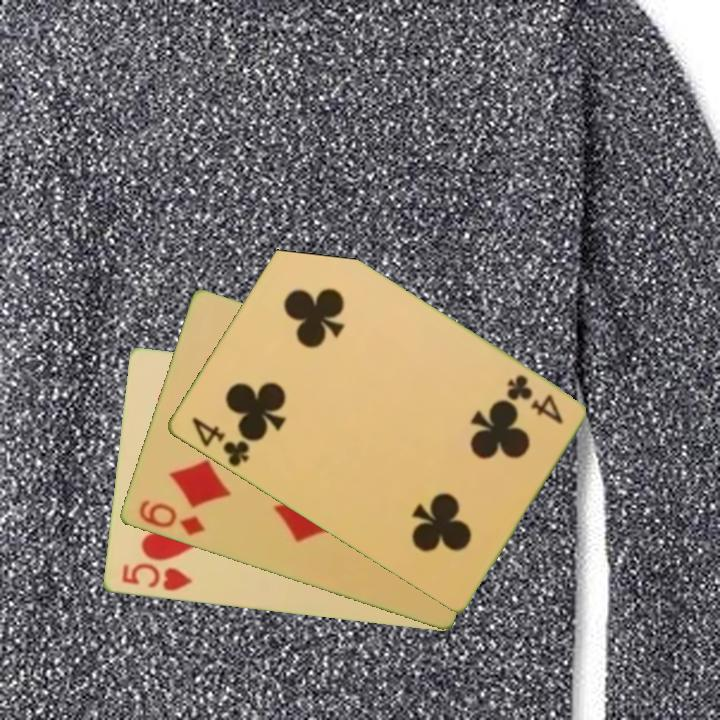4c: (188, 413, 252, 470), (502, 371, 566, 427)
5h: (118, 560, 195, 594)
6d: (135, 497, 207, 539)
